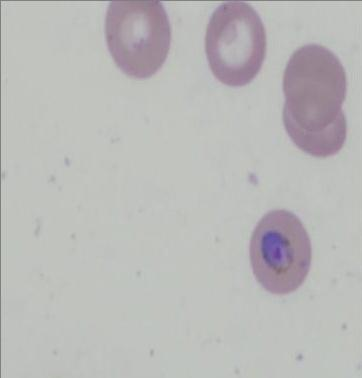Infected: (250, 209, 312, 295)
Uninfected: (281, 44, 348, 130), (203, 0, 266, 85), (105, 0, 171, 79), (284, 94, 347, 157)
